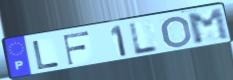1: (110, 24, 129, 58)
F: (62, 30, 92, 67)
L: (128, 21, 161, 56), (31, 39, 62, 71)
M: (185, 7, 233, 46)
O: (161, 15, 194, 49)
